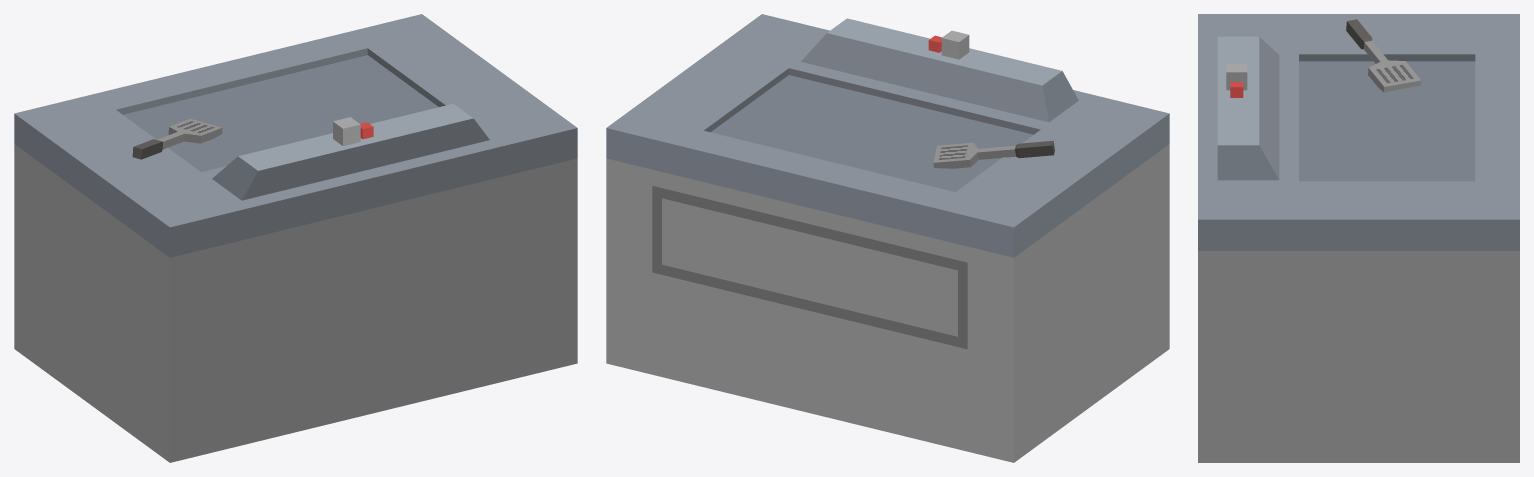
File: CookingSurface.glb
The picture shows the model from 3 angles, left to right: view 1: azimuth 30°, elevation 25°; view 2: azimuth 150°, elevation 25°; view 3: azimuth 270°, elevation 25°; orthographic projection. The views are drawn at different scales.
Visible parts, largest first — view 1: SI_Prop_CookingSurface_01, SI_Prop_Spatula_01; view 2: SI_Prop_CookingSurface_01, SI_Prop_Spatula_01; view 3: SI_Prop_CookingSurface_01, SI_Prop_Spatula_01.
Boxes of the visible parts, bbox=[...] form: SI_Prop_CookingSurface_01: bbox=[14, 14, 577, 462]; SI_Prop_Spatula_01: bbox=[132, 118, 222, 159]; SI_Prop_CookingSurface_01: bbox=[606, 14, 1169, 462]; SI_Prop_Spatula_01: bbox=[933, 140, 1054, 168]; SI_Prop_CookingSurface_01: bbox=[1198, 14, 1519, 462]; SI_Prop_Spatula_01: bbox=[1346, 19, 1421, 92].
Size of the model in its own units: 0.0221 by 0.0144 by 0.0146.
Materials: 1 (1 with a texture image).
